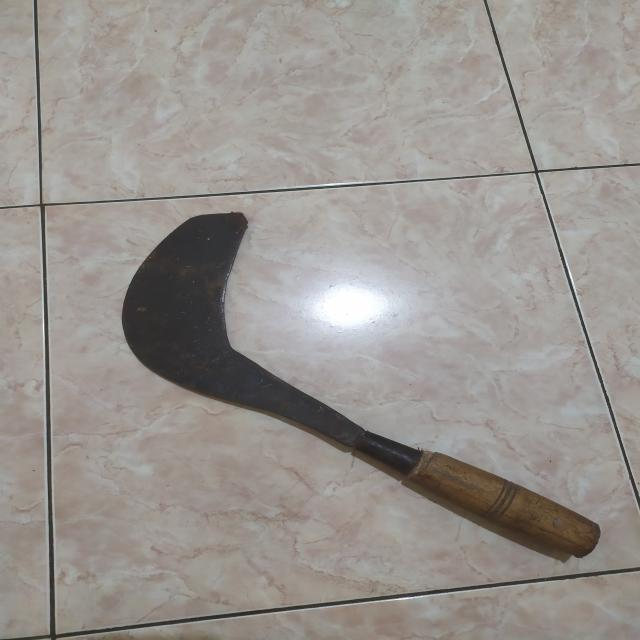Celurit: (121, 214, 603, 559)
